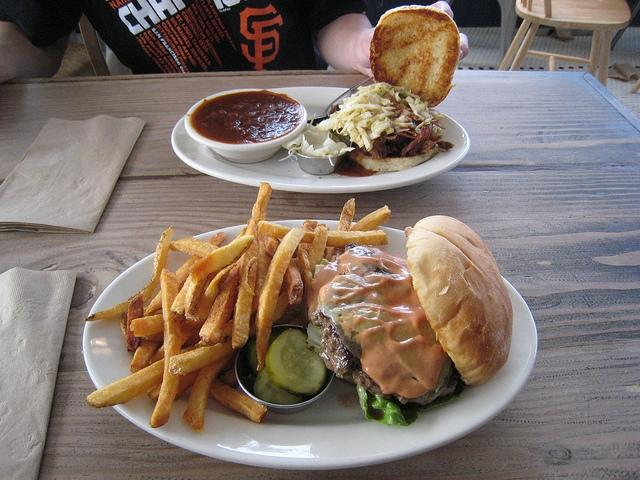lettuce: (356, 377, 470, 426), (372, 110, 385, 116), (320, 258, 330, 264)
